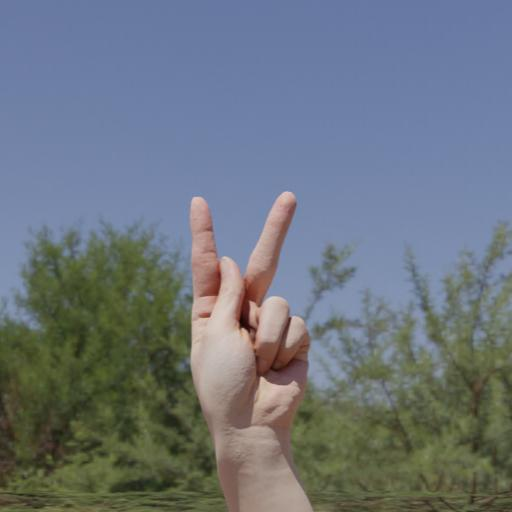K: (153, 168, 343, 442)
